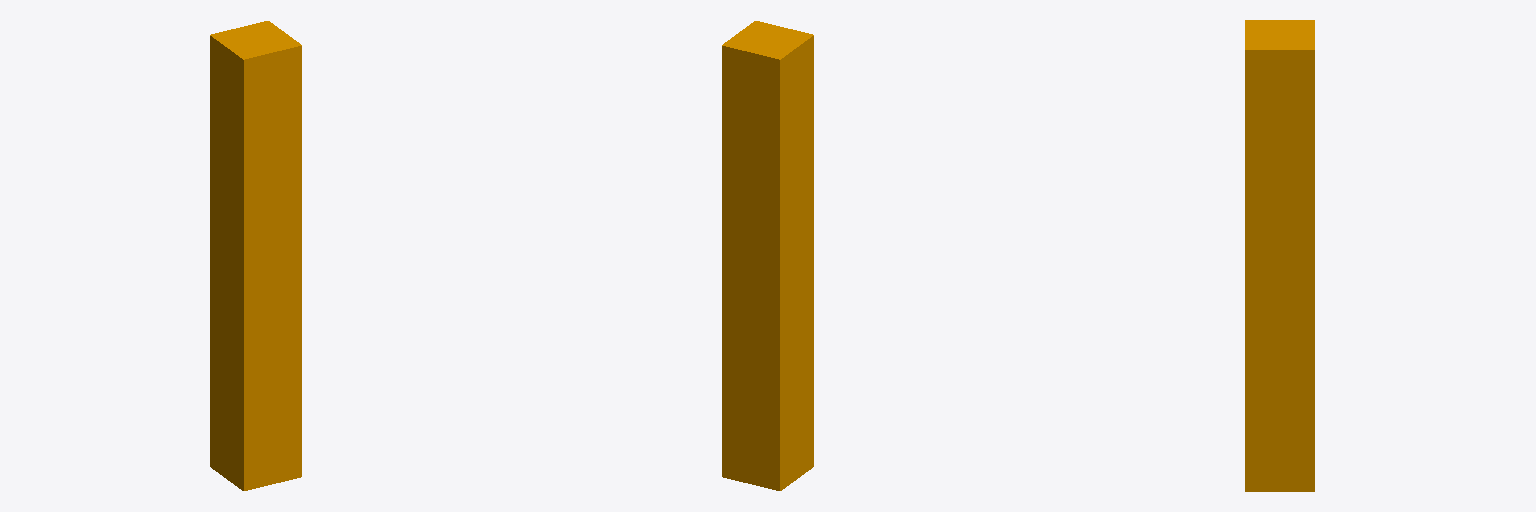
URDF robot description (block):
<robot name="block">
  <link name="block">
    <inertial>
      <origin xyz="0.005 0.005 0.035" />
      <mass value="0.2" />
      <inertia  ixx="1" ixy="0.0"  ixz="0.0"  iyy="1"  iyz="0.0"  izz="1" />
    </inertial>
    <visual>
      <origin xyz="0.005 0.005 0.035"/>
      <geometry>
        <box size="0.01 0.01 0.07" />
      </geometry>
    </visual>
    <collision>
      <origin xyz="0.005 0.005 0.035"/>
      <geometry>
        <box size="0.01 0.01 0.07" />
      </geometry>
    </collision>
  </link>
  <gazebo reference="block">
    <material>Gazebo/Yellow</material>
     <mu1>1000</mu1>
     <mu2>1000</mu2>
  </gazebo>
</robot>

--- Render facts (derived) ---
The picture shows the robot from 3 angles, left to right: view 1: azimuth 30°, elevation 25°; view 2: azimuth 150°, elevation 25°; view 3: azimuth 270°, elevation 25°; orthographic projection.
Model block with 1 links and 0 joints (none), rooted at block, posed every joint at zero.
Links seen in each view (by area): view 1: block; view 2: block; view 3: block.
Boxes of the visible links, x1,y1,x2,y2 form: block: (210, 21, 301, 490); block: (722, 21, 813, 490); block: (1245, 20, 1314, 491).
Size in the robot's own frame: 0.01 by 0.01 by 0.07 metres.
Geometry: primitives only (box / cylinder / sphere), no mesh files.